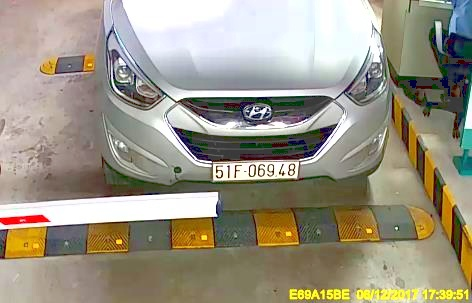plate: (211, 157, 298, 187)
